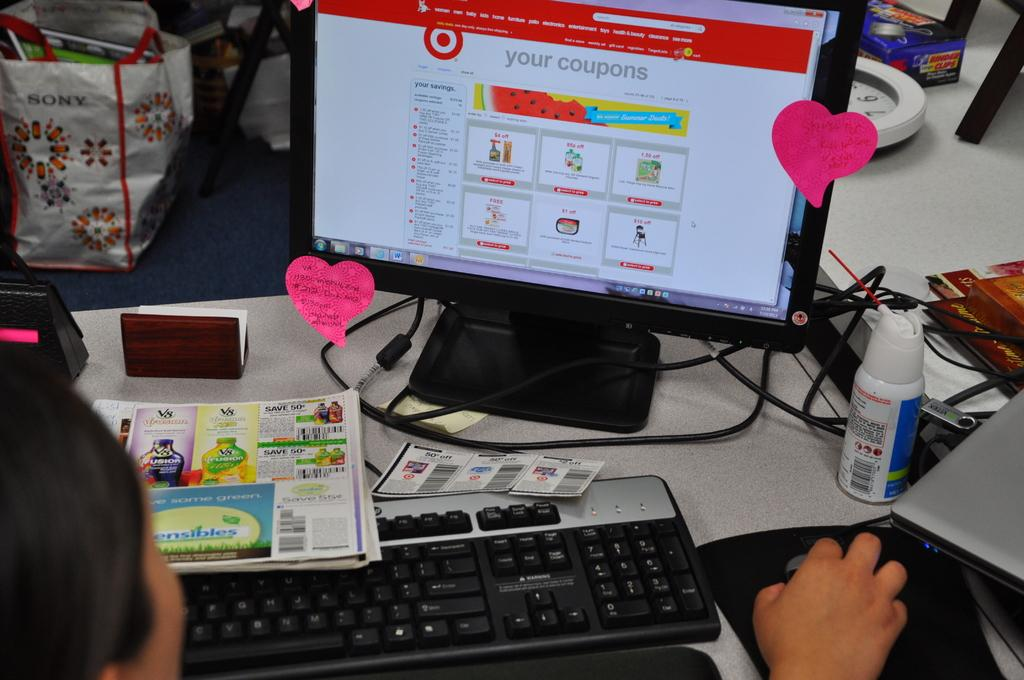Computer-keyboard: (178, 474, 723, 679)
Computer-monitor: (298, 34, 880, 393)
